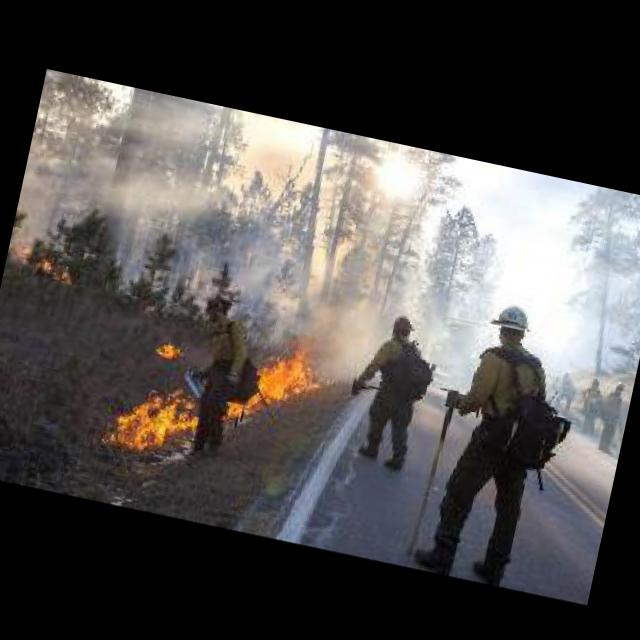fire: (224, 329, 336, 434), (114, 374, 204, 459), (10, 238, 76, 282), (158, 339, 182, 358)
